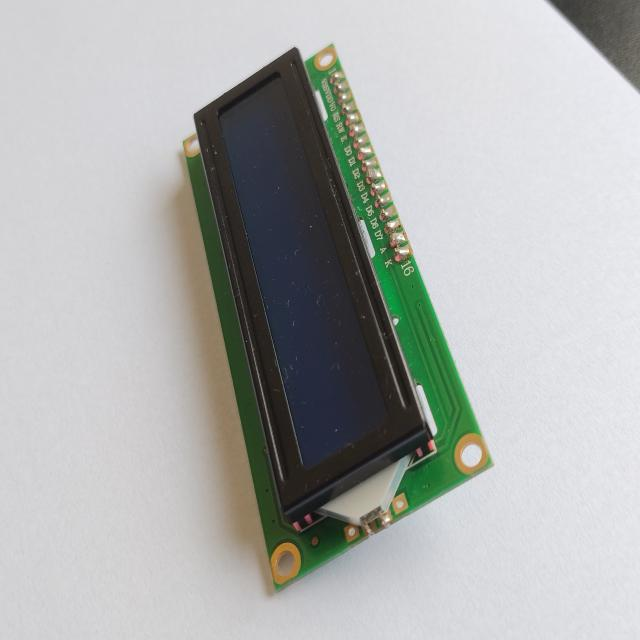lcd: (166, 35, 505, 605)
